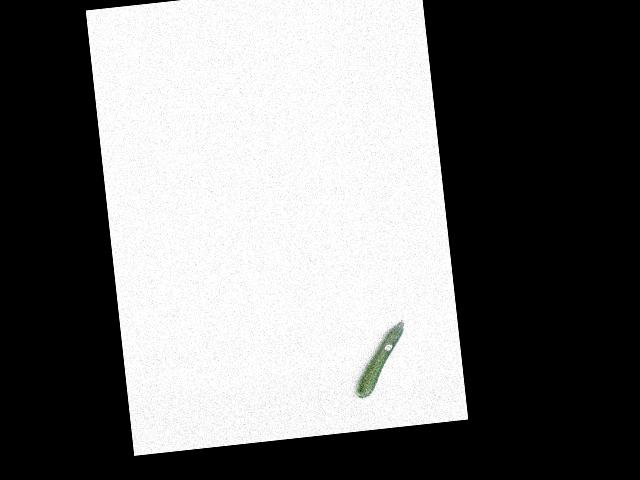cucumber: (349, 319, 411, 398)
